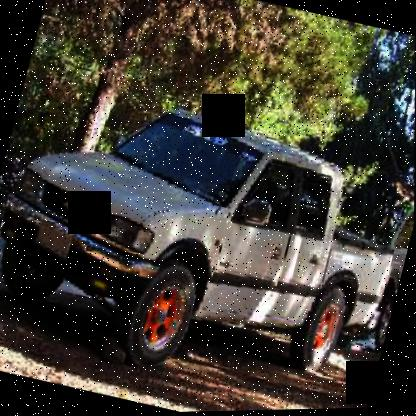not_emergency: (0, 56, 415, 415)
